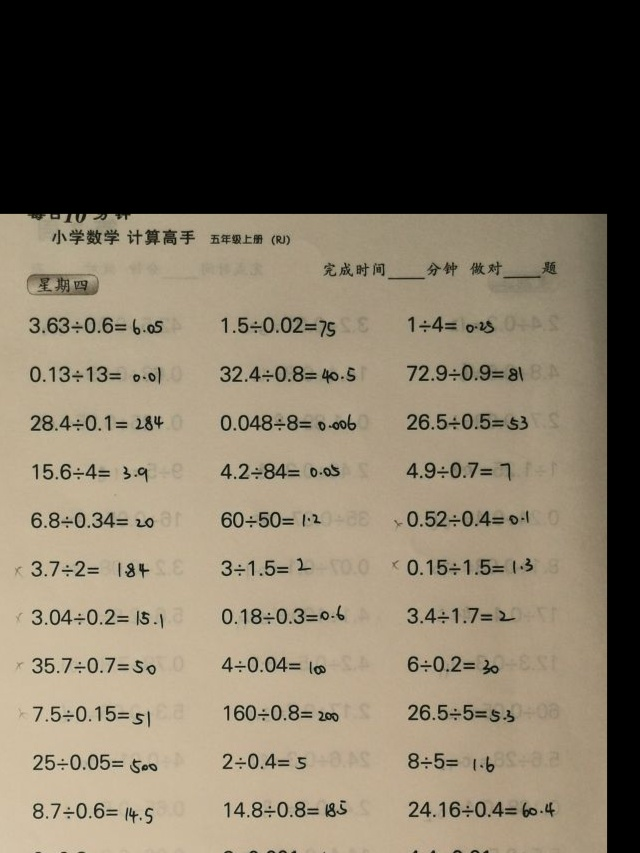equation: (404, 797, 559, 822), (216, 360, 359, 387), (217, 409, 361, 435), (388, 554, 537, 579), (24, 315, 167, 341), (391, 506, 533, 532), (28, 604, 167, 630), (25, 361, 164, 387), (28, 797, 156, 825), (29, 749, 160, 776), (217, 602, 348, 629), (29, 700, 154, 728), (28, 411, 168, 436), (15, 557, 154, 582), (28, 652, 159, 678), (217, 311, 338, 339), (220, 796, 350, 822), (403, 409, 532, 435), (27, 508, 158, 533), (403, 360, 528, 386), (220, 700, 344, 726), (28, 459, 152, 485), (217, 459, 345, 484), (403, 603, 520, 629), (403, 699, 517, 725), (217, 651, 330, 677), (401, 457, 514, 483), (216, 506, 324, 531), (402, 651, 503, 677), (217, 554, 315, 580), (403, 749, 498, 775), (403, 311, 497, 337), (219, 749, 311, 774), (403, 845, 545, 853), (218, 845, 353, 853), (29, 846, 129, 853)
